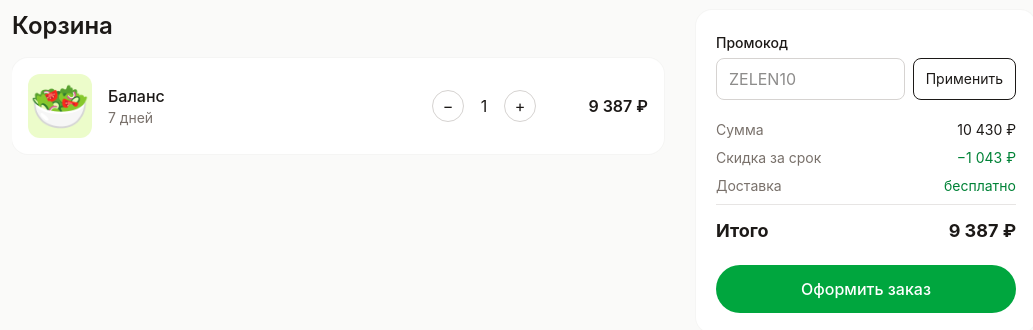
CartPage › удаляет позицию при уменьшении количества до нуля
Click the button named "Уменьшить" at (448, 106), box [432,90,464,122]
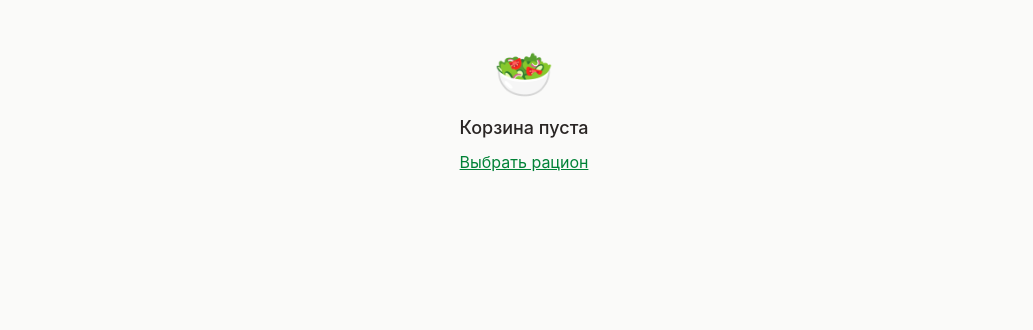
Result: the text "Корзина пуста" is shown at [460,117,588,138]
